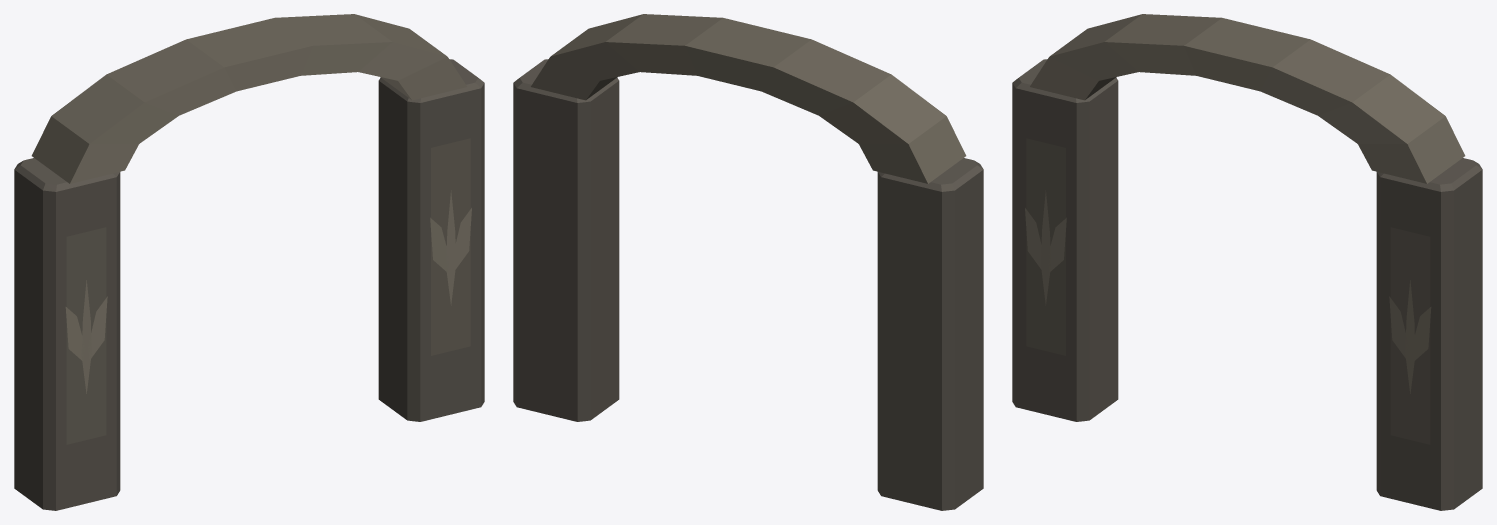
Rendered from wall_garden_arch_4m.glb.
The picture shows the model from 3 angles, left to right: view 1: azimuth 30°, elevation 25°; view 2: azimuth 150°, elevation 25°; view 3: azimuth 330°, elevation 25°; orthographic projection.
Visible parts, largest first — view 1: Body_wall_garden_arch_4m.001; view 2: Body_wall_garden_arch_4m.001; view 3: Body_wall_garden_arch_4m.001.
Boxes of the visible parts, x1,y1,x2,y2 form: Body_wall_garden_arch_4m.001: (14, 14, 484, 510); Body_wall_garden_arch_4m.001: (513, 14, 983, 510); Body_wall_garden_arch_4m.001: (1012, 14, 1482, 510).
Size of the model in its own units: 4 by 3.48 by 0.604.
